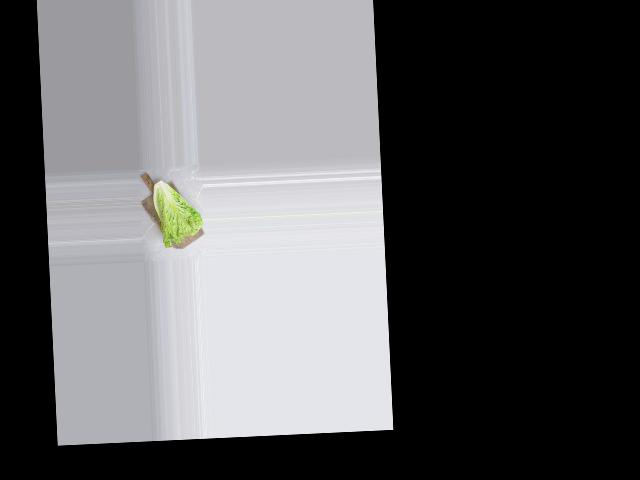lettuce: (144, 175, 203, 248)
